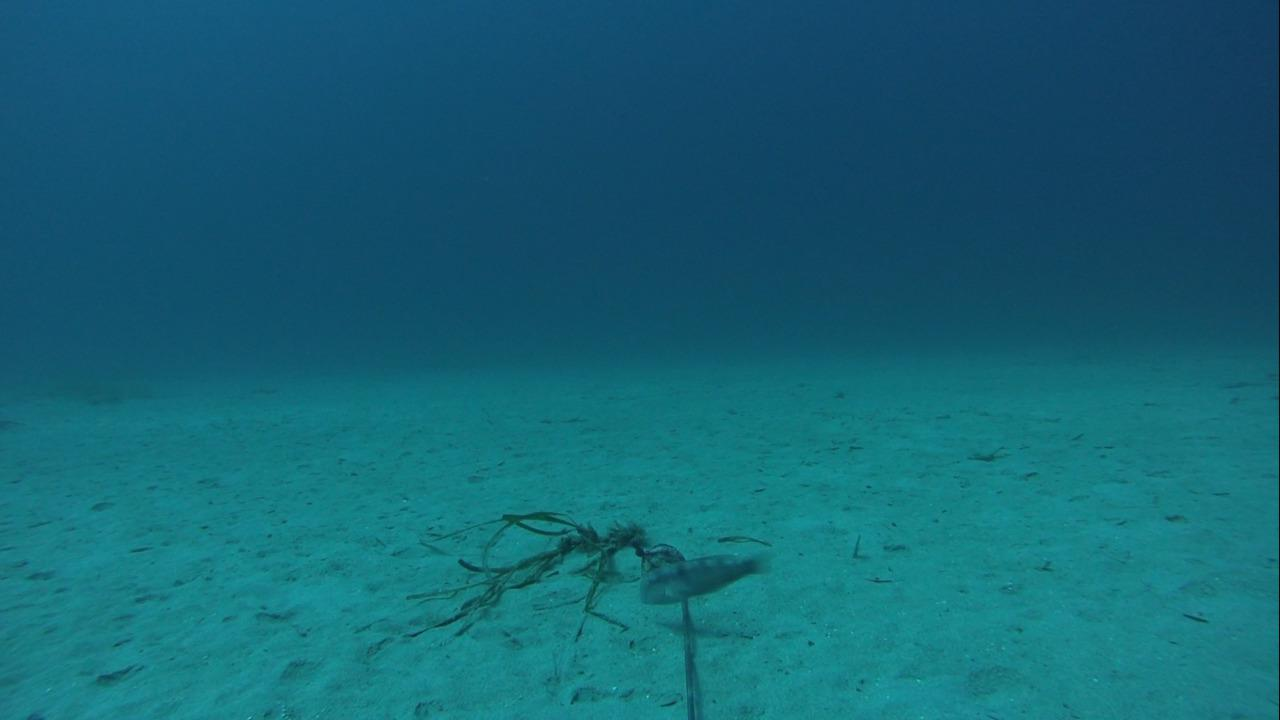raor: (634, 546, 772, 608)
